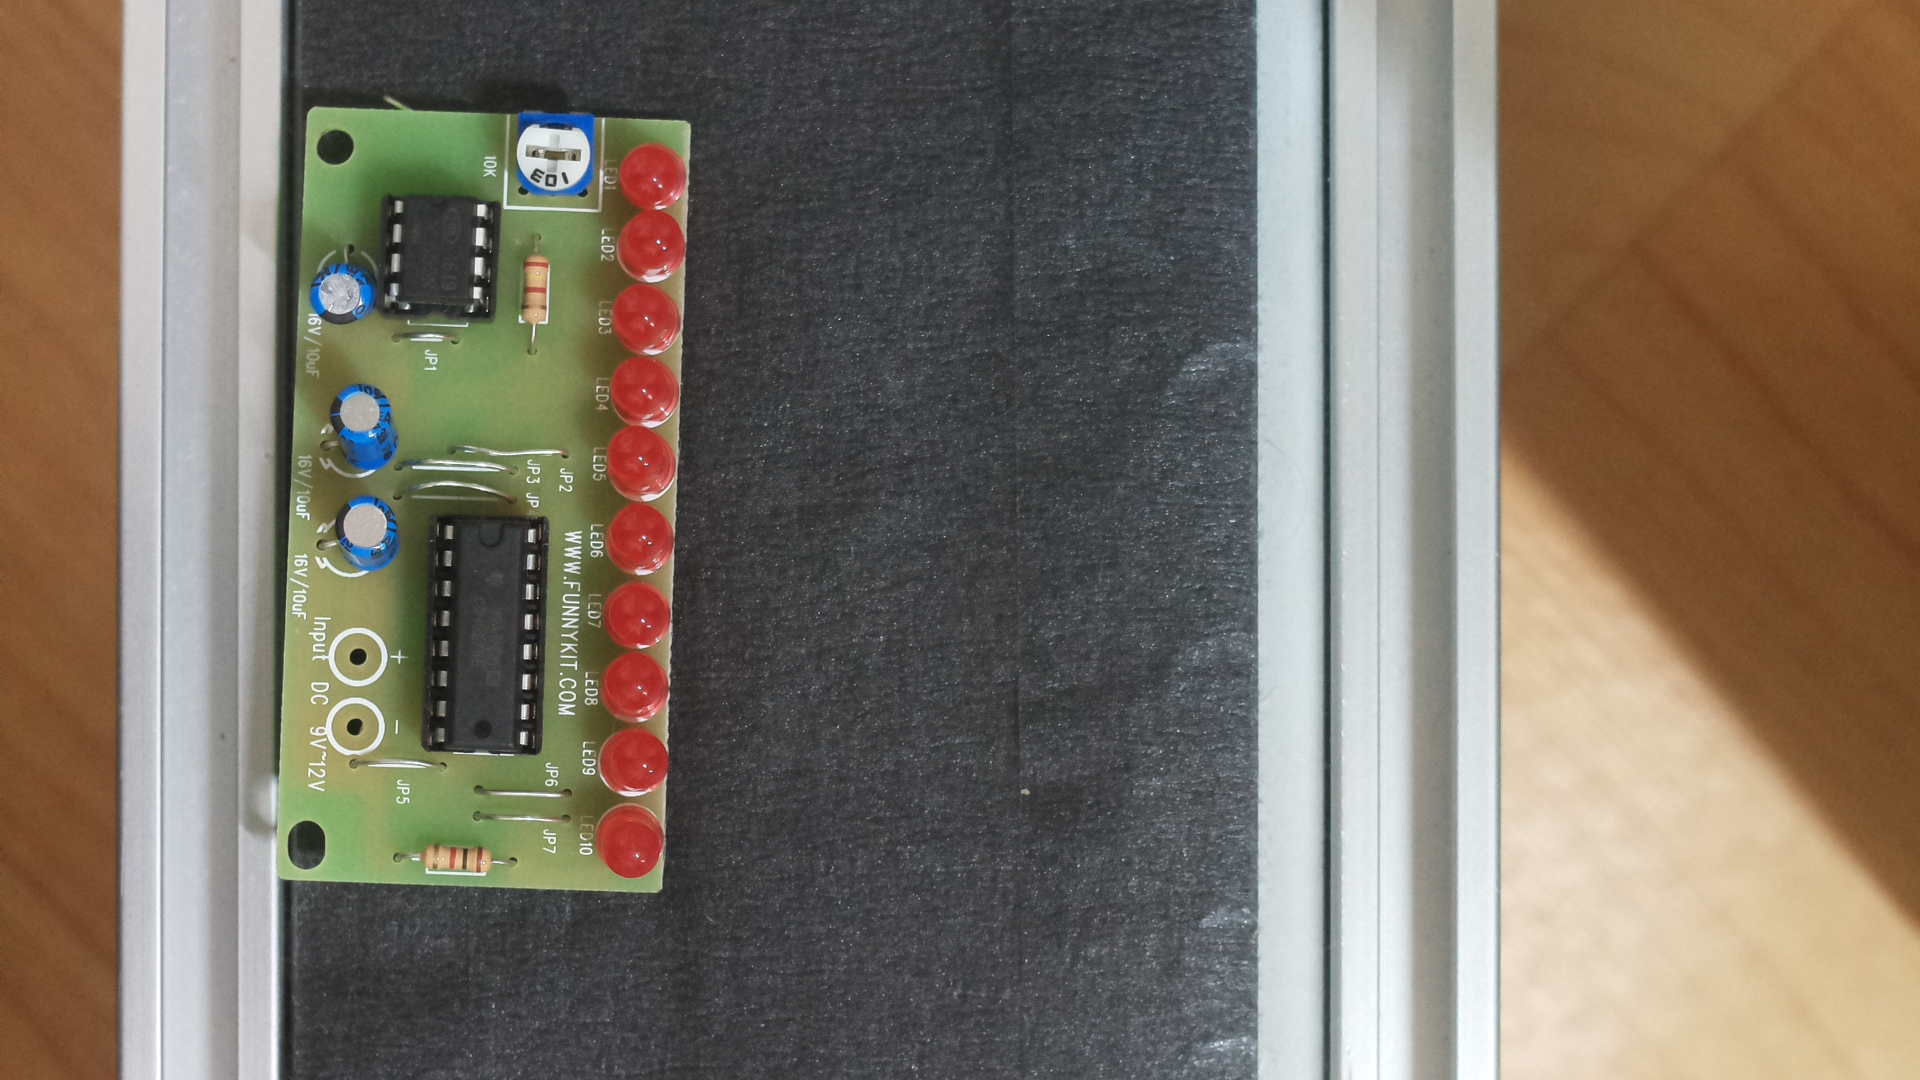B_Normal: (266, 74, 708, 923)
